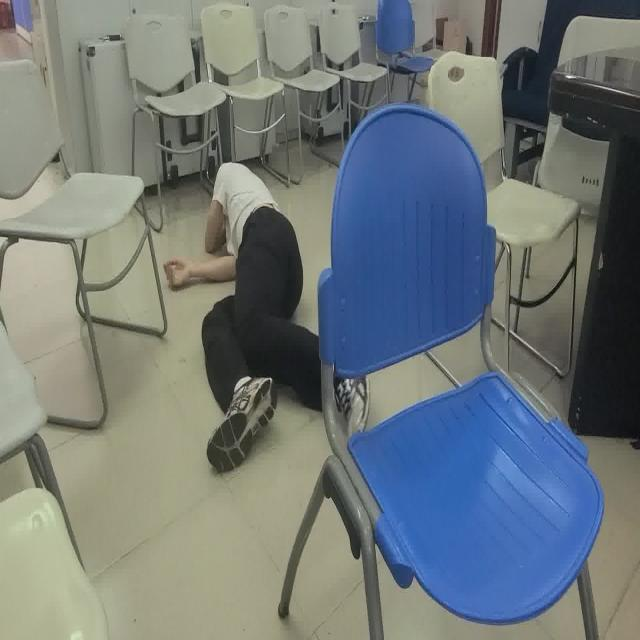Fall-Detected: (164, 158, 370, 456)
